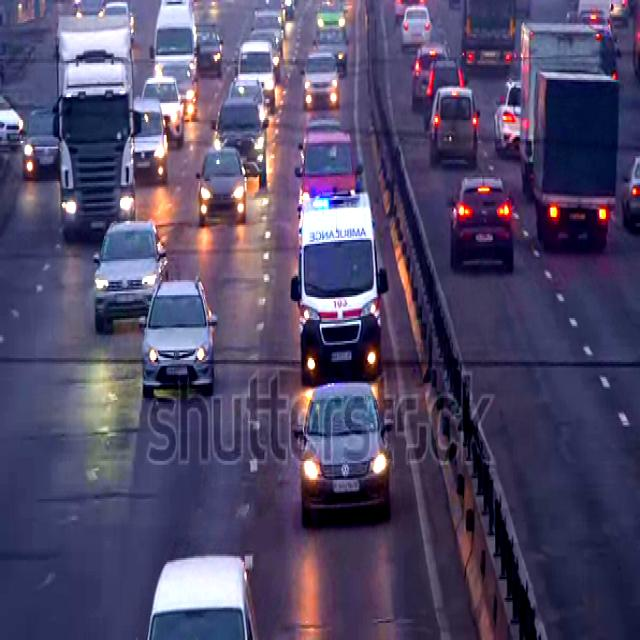ambulance: (289, 190, 393, 388)
